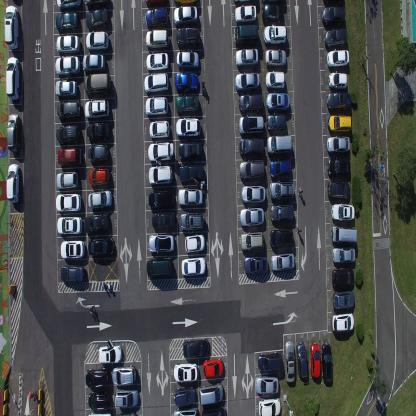car: (4, 5, 19, 50), (5, 55, 20, 100), (265, 133, 292, 158), (146, 140, 174, 164), (83, 73, 111, 96), (84, 97, 110, 121), (198, 382, 224, 406), (235, 70, 260, 94), (175, 116, 201, 139), (146, 255, 172, 278), (331, 224, 357, 247), (55, 191, 82, 213), (83, 212, 110, 234), (182, 337, 209, 359), (6, 162, 20, 204), (144, 71, 169, 94), (181, 255, 206, 278), (54, 55, 80, 77), (147, 165, 173, 187), (178, 186, 204, 208), (148, 189, 174, 211), (148, 232, 174, 254), (239, 205, 265, 227), (326, 90, 352, 112), (56, 215, 83, 236), (88, 236, 115, 257), (238, 115, 265, 136), (234, 23, 258, 46), (85, 366, 109, 389), (55, 124, 80, 146), (173, 5, 198, 27), (239, 136, 264, 158), (327, 113, 352, 135), (174, 72, 200, 93), (239, 159, 265, 180), (268, 180, 294, 201), (320, 342, 333, 384), (172, 361, 198, 382), (145, 95, 168, 118), (269, 158, 292, 181), (56, 33, 80, 55), (56, 99, 80, 121), (86, 7, 108, 31), (176, 27, 200, 49), (178, 140, 202, 162), (263, 25, 287, 47), (269, 227, 293, 249), (240, 230, 264, 252), (324, 27, 348, 49), (327, 156, 351, 178), (258, 350, 282, 372), (60, 239, 85, 260), (238, 94, 263, 115), (330, 202, 355, 223), (111, 365, 136, 386), (7, 112, 20, 152), (56, 146, 82, 166), (87, 189, 113, 209), (179, 164, 205, 184), (240, 184, 266, 204), (264, 48, 287, 70), (331, 266, 354, 288), (173, 386, 196, 408), (55, 170, 79, 191), (85, 31, 109, 52), (86, 122, 110, 143), (176, 50, 200, 71), (175, 94, 199, 115), (270, 202, 294, 223), (271, 251, 295, 272), (322, 5, 346, 26), (331, 289, 355, 310), (331, 312, 355, 333), (98, 343, 122, 364), (115, 387, 139, 408), (145, 28, 170, 48), (243, 255, 269, 274), (87, 144, 110, 165), (88, 167, 111, 188), (261, 2, 284, 23), (327, 179, 350, 200), (82, 54, 106, 74), (180, 212, 204, 232), (235, 48, 259, 68), (266, 92, 290, 112), (255, 375, 279, 395), (60, 264, 85, 283), (296, 341, 308, 380), (203, 357, 224, 379), (55, 12, 78, 32), (145, 8, 168, 28), (326, 48, 349, 68), (87, 388, 110, 408), (54, 79, 78, 98), (149, 119, 170, 140), (234, 2, 256, 22), (285, 340, 295, 384), (146, 51, 169, 70), (258, 396, 281, 415), (152, 211, 176, 229), (326, 136, 350, 154), (332, 246, 356, 264), (184, 234, 205, 254), (265, 70, 286, 90), (266, 113, 286, 133), (327, 70, 348, 89), (310, 342, 320, 379), (56, 0, 81, 11), (201, 405, 227, 415), (83, 0, 109, 8), (173, 408, 198, 416), (144, 0, 167, 8), (174, 0, 197, 7), (87, 410, 111, 416), (116, 410, 137, 416)
